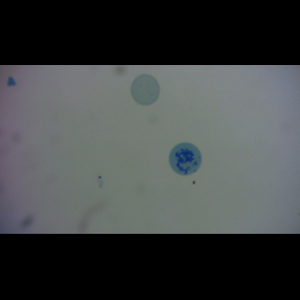aggregate reticulocyte: (168, 142, 203, 177)
punctate reticulocyte: (130, 73, 161, 106)
